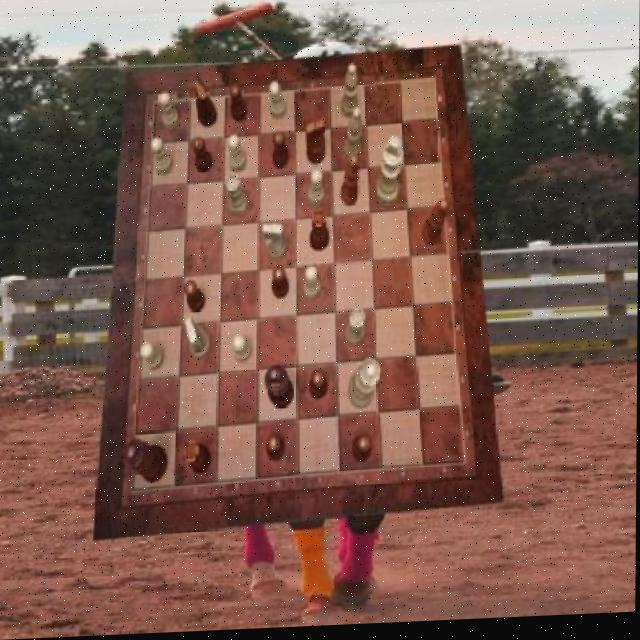bishop: (422, 203, 446, 251), (341, 158, 361, 210)
black-bishop: (265, 367, 295, 412)
black-king: (194, 82, 218, 129), (305, 121, 325, 167)
black-knight: (192, 139, 213, 174), (184, 282, 205, 315), (228, 85, 245, 124), (273, 133, 290, 171), (272, 270, 289, 303), (309, 373, 327, 403), (354, 439, 373, 466), (268, 436, 285, 463)
black-pawn: (123, 439, 168, 486)
black-queen: (183, 442, 211, 476), (309, 213, 330, 255)
black-rook: (343, 111, 362, 166), (341, 66, 359, 121)
white-bishop: (376, 140, 404, 213)
white-king: (183, 317, 211, 361), (261, 226, 285, 262)
white-knight: (150, 139, 173, 177), (158, 93, 179, 133), (142, 343, 166, 372), (268, 84, 285, 123), (308, 172, 325, 210), (228, 136, 245, 174), (303, 268, 320, 303), (232, 337, 252, 366)
white-pawn: (348, 360, 381, 412)
white-queen: (225, 176, 248, 219), (345, 312, 366, 350)
